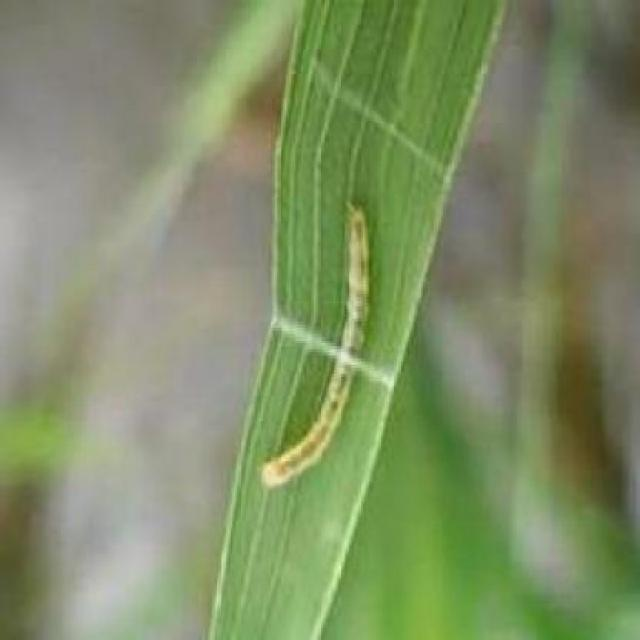leaf-folder: (249, 191, 408, 551)
